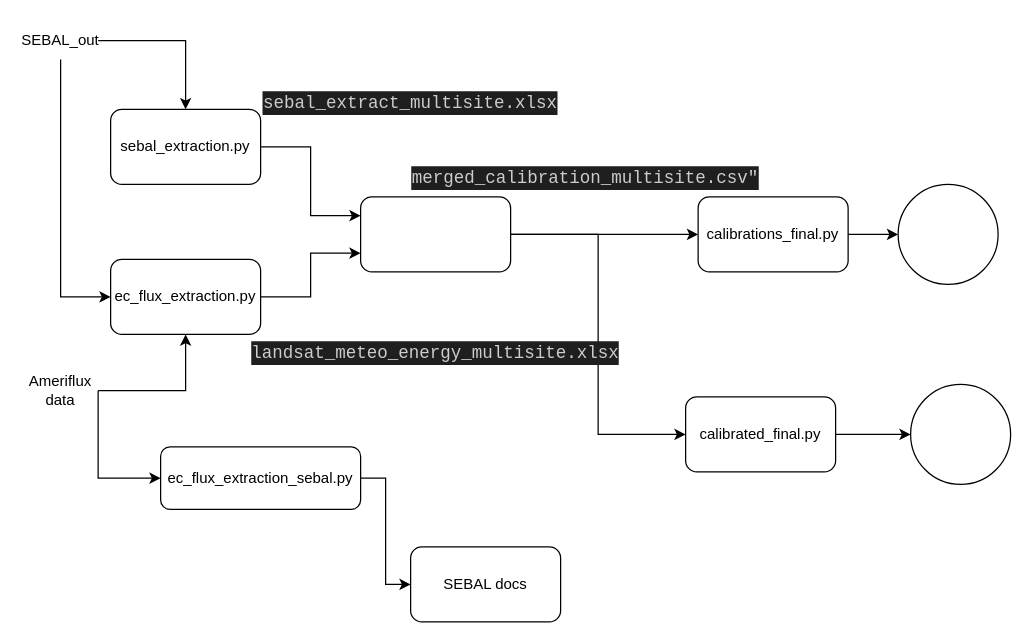
The diagram is 1033 pixels wide and 644 high, and some of its shapes have lost their labels. Here are the shapes that lost their labels. From the top down, the box of each, then its label:
(359, 196, 511, 272): merged_flux.py
(897, 183, 998, 284): alpha and beta
(909, 383, 1011, 484): results on calibrated data
